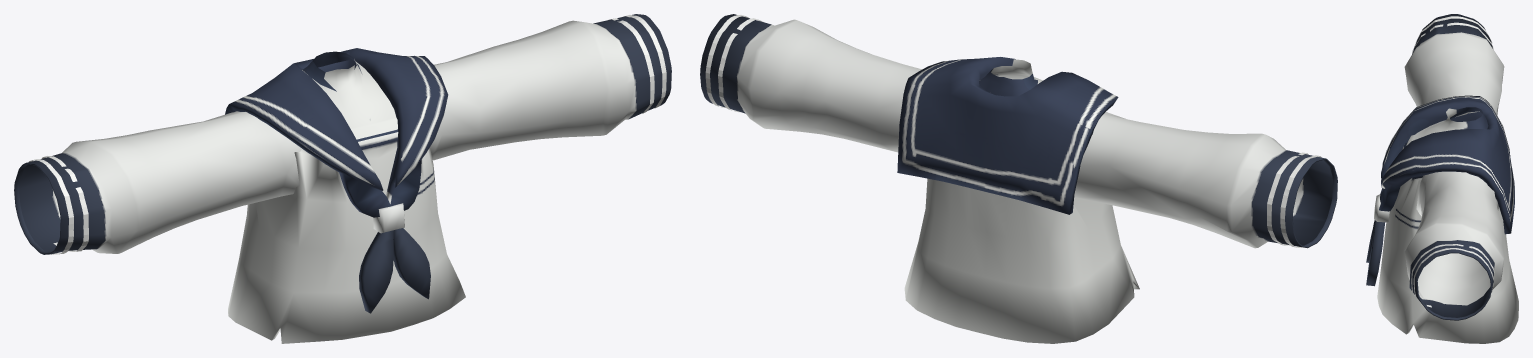
The model's file is sailor-painted-top.glb.
3 renders of one model, left to right at view 1: azimuth 30°, elevation 25°; view 2: azimuth 150°, elevation 25°; view 3: azimuth 270°, elevation 25°, orthographic. The views are drawn at different scales.
Visible parts, largest first — view 1: Sailor_top; view 2: Sailor_top; view 3: Sailor_top.
Part boxes in pixels (<box>): Sailor_top: <box>14,14,671,343</box>; Sailor_top: <box>700,14,1337,343</box>; Sailor_top: <box>1366,14,1518,343</box>.
Bounding box in the file's own units: 2.82 × 1.09 × 0.7638.
Materials: 1 (1 with a texture image).
